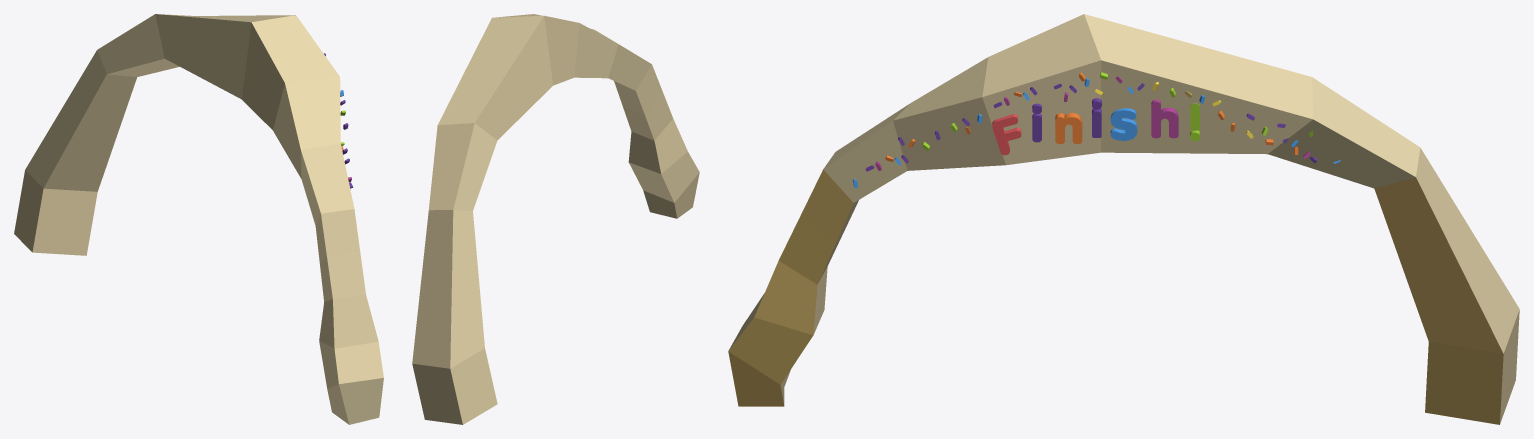
Rendered from finishline.fbx.
3 renders of one model, left to right at view 1: azimuth 30°, elevation 25°; view 2: azimuth 150°, elevation 25°; view 3: azimuth 270°, elevation 25°, orthographic. The views are drawn at different scales.
Visible parts, largest first — view 1: Cube; view 2: Cube; view 3: Cube, Cube.002, Cube.001, Cube.003, Curve.004, Curve.005, Curve.
Part boxes in pixels (x1,y1,x2,y2): Cube: (14, 14, 383, 424); Cube: (412, 14, 699, 424); Cube: (728, 14, 1519, 423); Cube.002: (728, 215, 1503, 424); Cube.001: (1374, 177, 1503, 353); Cube.003: (801, 169, 853, 243); Curve.004: (1110, 108, 1137, 140); Curve.005: (1151, 99, 1178, 138); Curve: (992, 114, 1021, 155).
Bounding box in the file's own units: 475 × 1055 × 1769.
